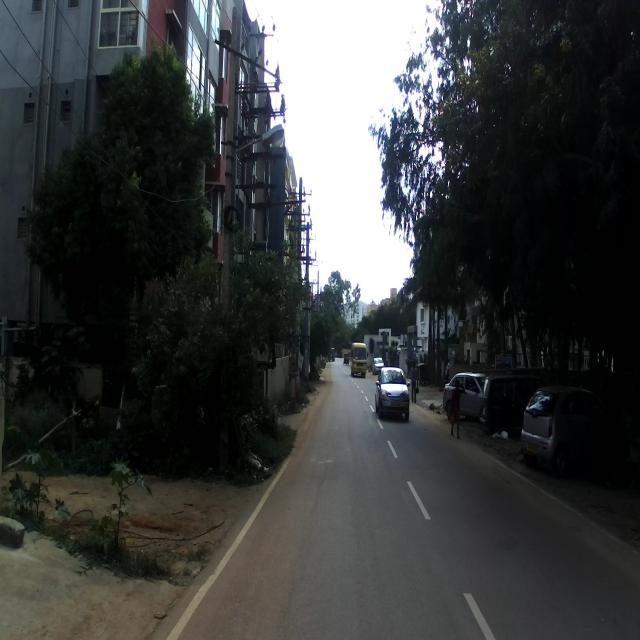car: (521, 388, 612, 478), (375, 364, 409, 420)
